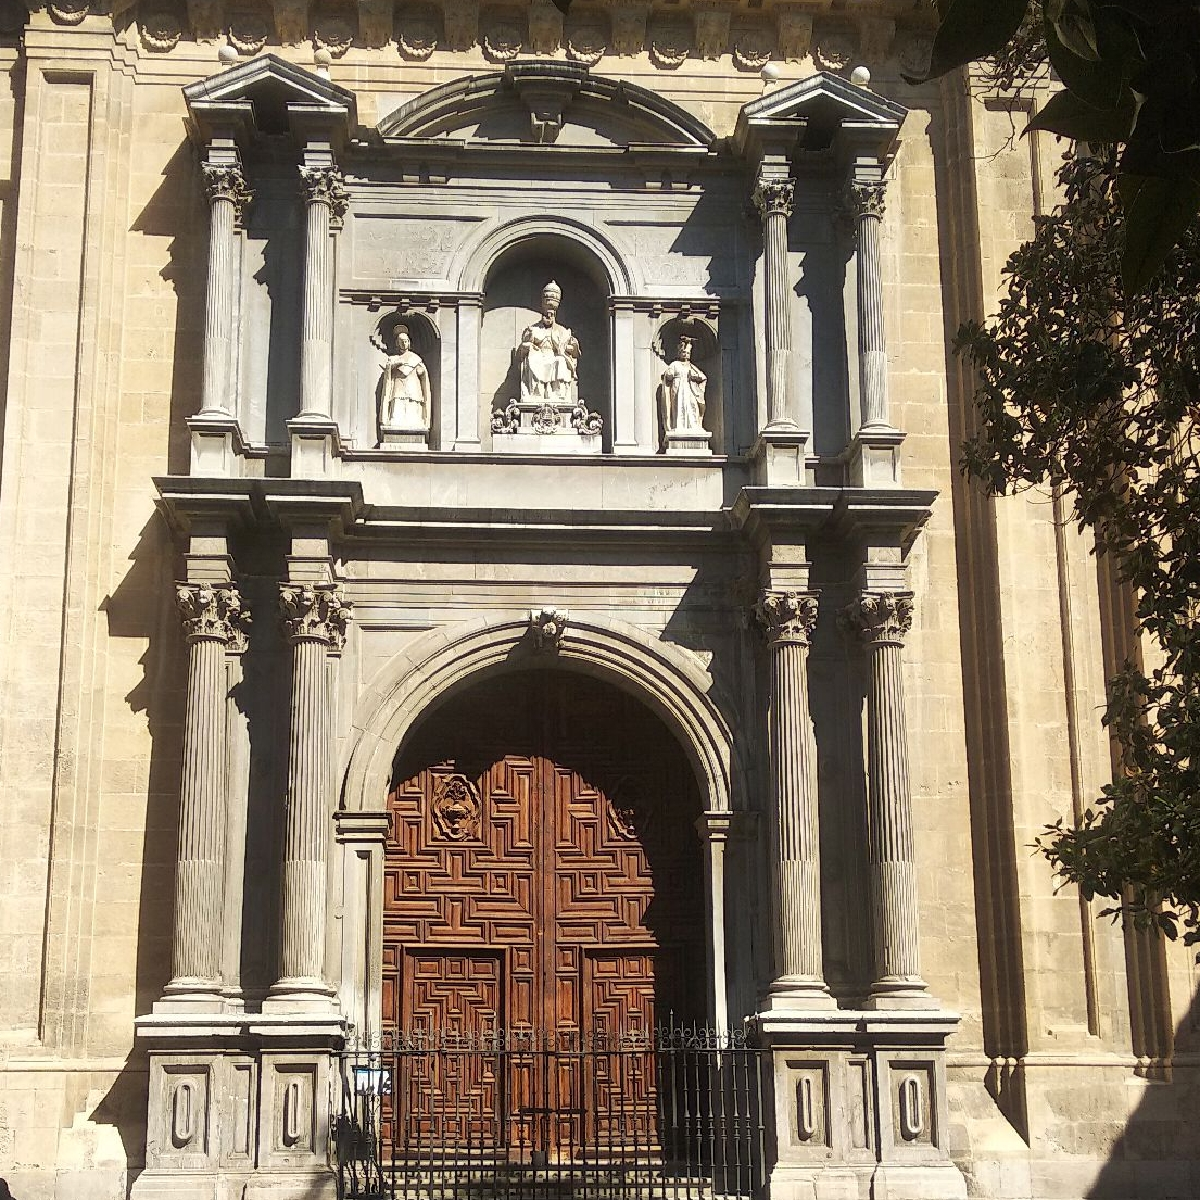arco-medio-punto: (362, 644, 732, 871), (462, 221, 623, 316)
fronton-curvo: (371, 69, 733, 173)
fronton-partido: (169, 52, 353, 129), (738, 70, 913, 140)
serliana: (320, 209, 744, 464)
